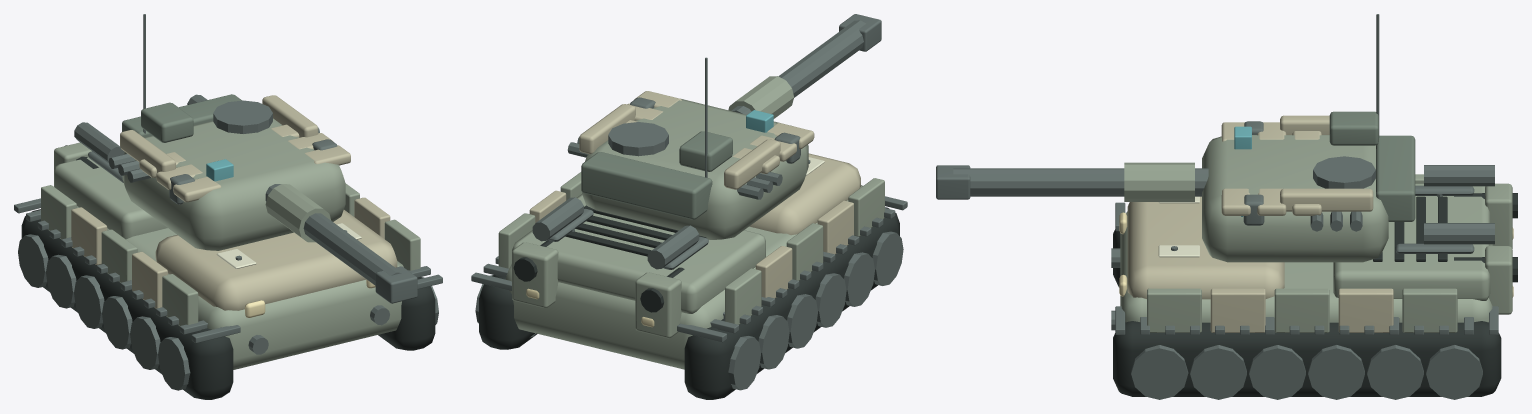
Rendered from tank.glb.
The picture shows the model from 3 angles, left to right: view 1: azimuth 30°, elevation 25°; view 2: azimuth 150°, elevation 25°; view 3: azimuth 270°, elevation 25°; orthographic projection. The views are drawn at different scales.
Visible parts, largest first — view 1: Chassis, TurretArmor; view 2: Chassis, TurretArmor; view 3: Chassis, TurretArmor.
Part boxes in pixels (box(x1,y1,x2,y2)): Chassis: box(14, 94, 442, 399); TurretArmor: box(108, 14, 417, 303); Chassis: box(471, 153, 907, 399); TurretArmor: box(567, 14, 881, 239); Chassis: box(1111, 165, 1517, 399); TurretArmor: box(936, 14, 1415, 262).
Bounding box in the file's own units: 3.14 × 3.38 × 5.92.
